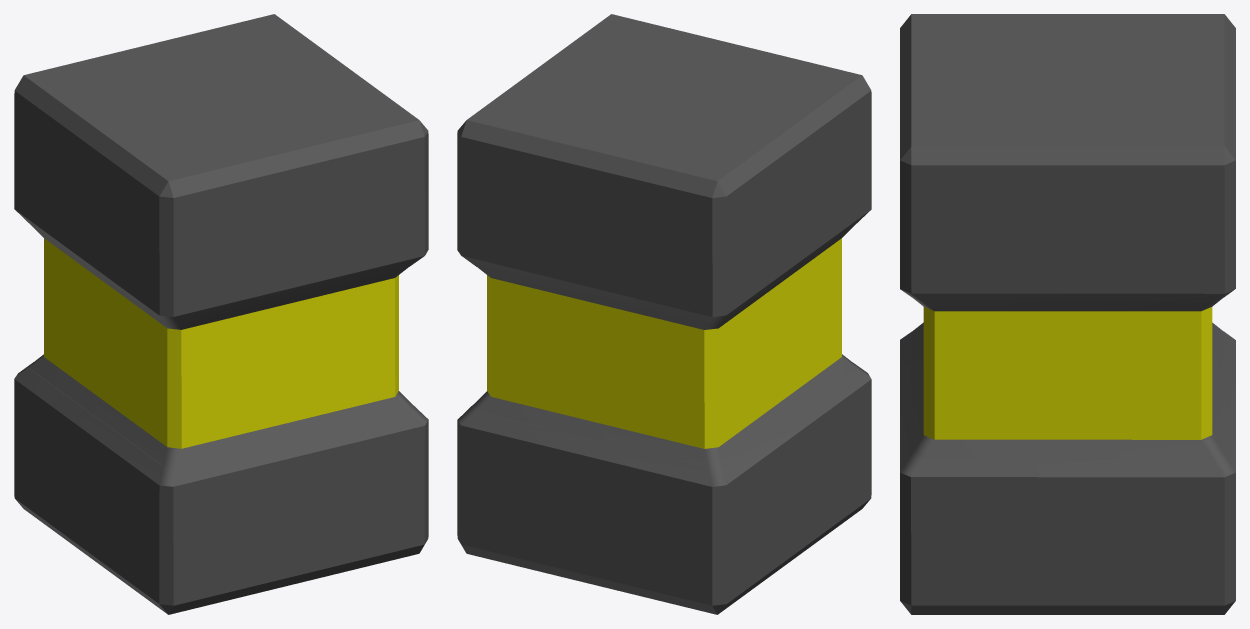
Rendered from cubiod.fbx.
3 renders of one model, left to right at view 1: azimuth 30°, elevation 25°; view 2: azimuth 150°, elevation 25°; view 3: azimuth 270°, elevation 25°, orthographic. The views are drawn at different scales.
Parts seen in each view (by area): view 1: cubiod; view 2: cubiod; view 3: cubiod.
Boxes of the visible parts, box(x1,y1,x2,y2) form: cubiod: box(14, 14, 428, 614); cubiod: box(457, 14, 871, 614); cubiod: box(900, 14, 1235, 614).
Bounding box in the file's own units: 3.9 × 6 × 3.9.
